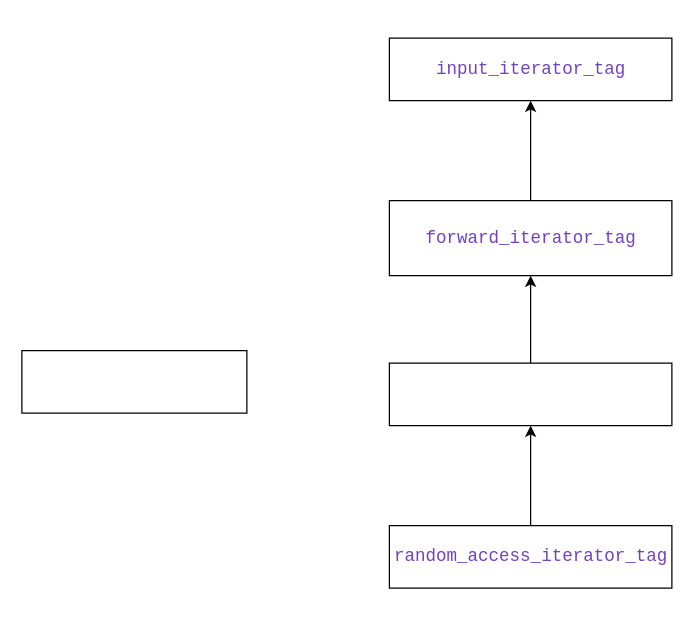
The diagram is 694 pixels wide and 626 high, and some of its shapes have lost their labels. The shapes that lost their labels are listed below. From the top down, each one's centre as x and y in pixels, then its label:
At pixel 134 381: "output_iterator_tag".
At pixel 530 394: "bidirectional_iterator_tag".
